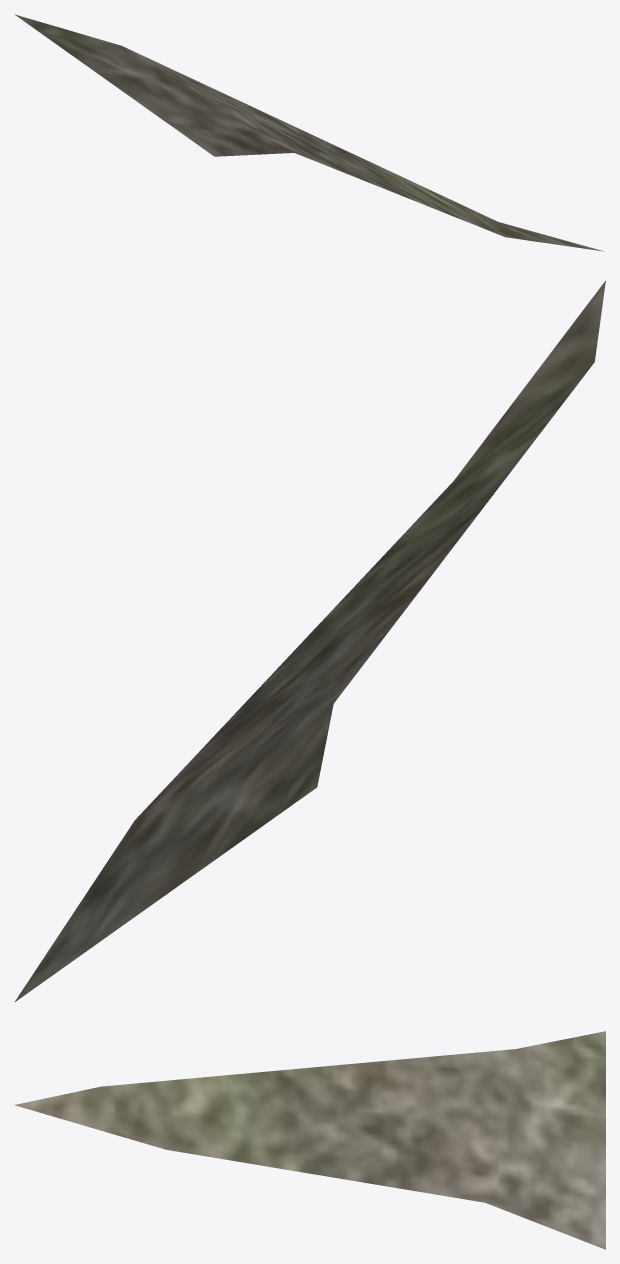
3 views of the same model, one above another, from view 1: azimuth 30°, elevation 25°; view 2: azimuth 150°, elevation 25°; view 3: azimuth 270°, elevation 25° (orthographic). The views are drawn at different scales.
Size of the model in its own units: 0.403 by 0.3677 by 1.36.
Materials: 1 (1 with a texture image).
